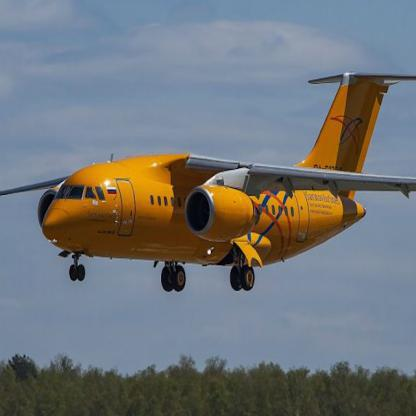CIV_Plane: (0, 72, 415, 294)
